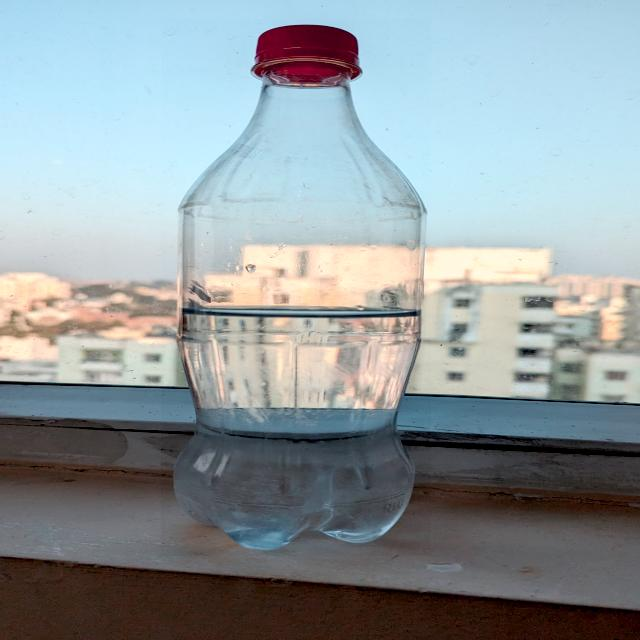half-bottle: (162, 19, 432, 556)
